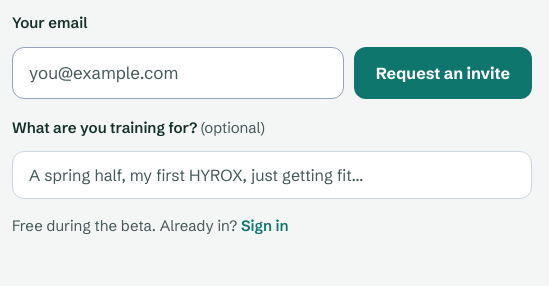
Test: client validation › rejects  without sending
Step 1. Click the button "Request an invite" → [443, 72], box [354,46,532,98]
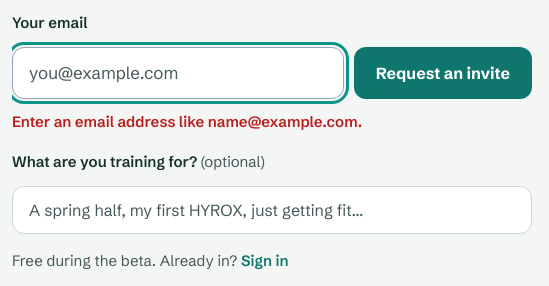
Result: the text "Enter an email address like name@example.com." is shown at [12,112,362,130]
